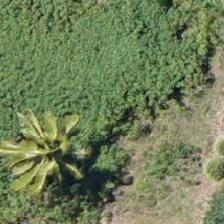coconut_tree: (5, 101, 95, 191)
